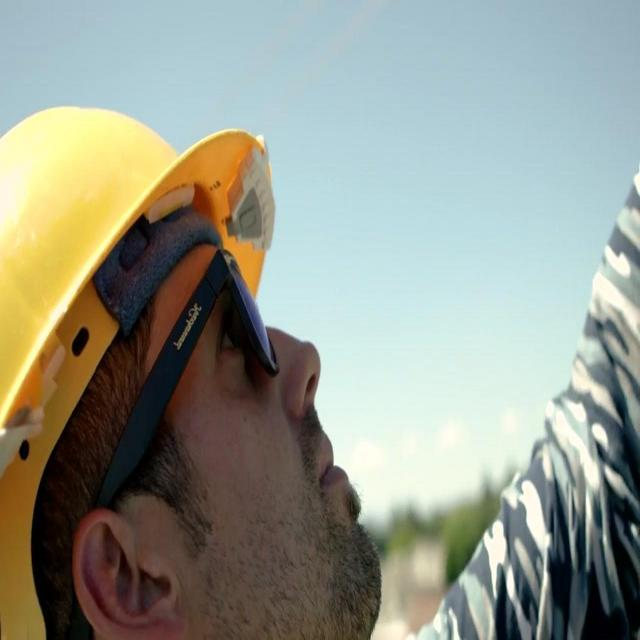safety_helmet: (0, 93, 289, 606)
